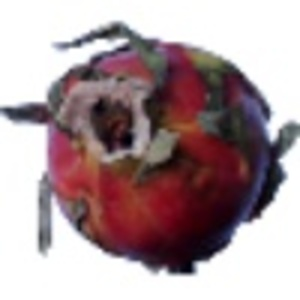pitaia: (1, 21, 300, 277)
